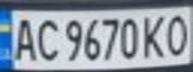0: (118, 14, 142, 61)
6: (81, 15, 103, 62)
7: (100, 15, 121, 61)
9: (60, 15, 84, 62)
A: (9, 14, 39, 62)
C: (33, 15, 60, 63)
K: (139, 11, 169, 60)
O: (163, 10, 193, 57)
